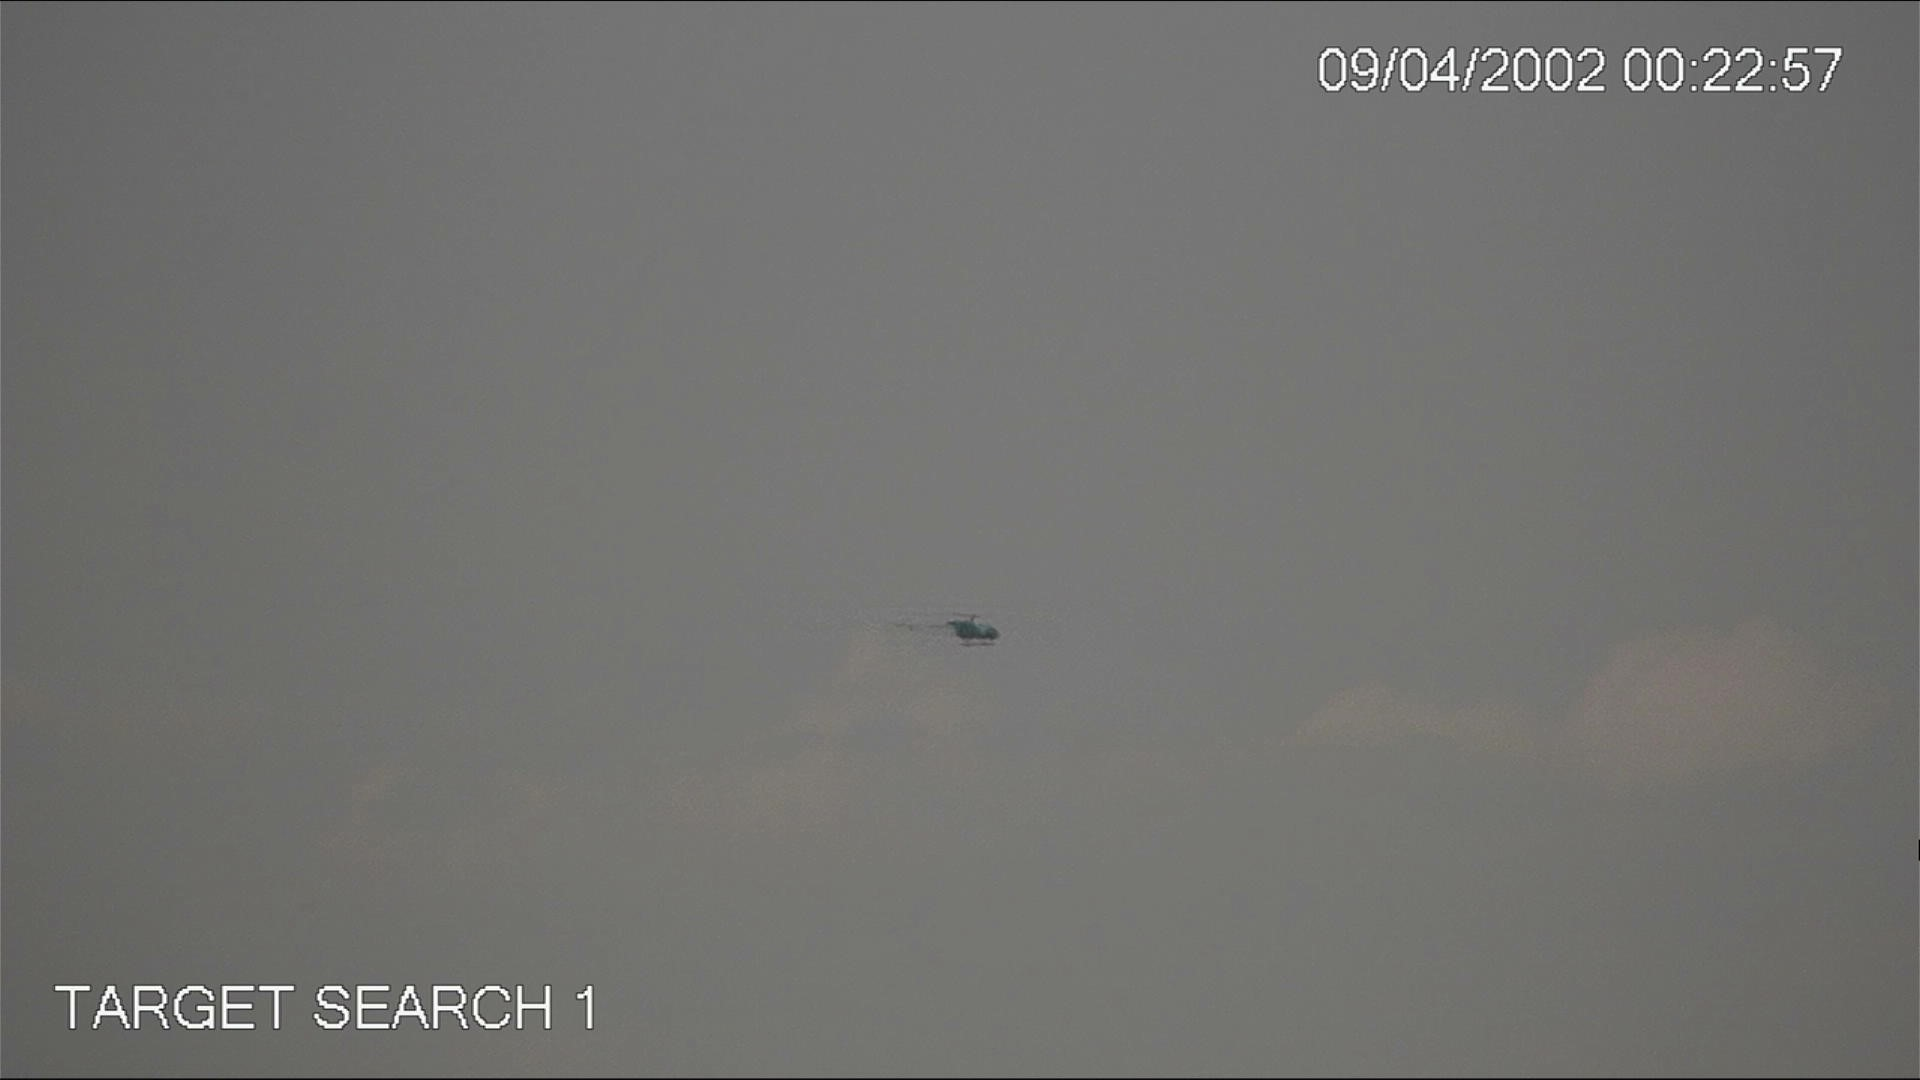SU_30: (893, 597, 1013, 650)
